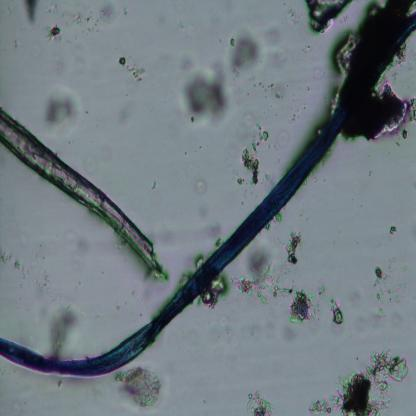Background material: (336, 3, 409, 98), (308, 355, 409, 414), (236, 276, 320, 324), (341, 94, 413, 139), (182, 64, 233, 125), (55, 0, 127, 35), (46, 304, 82, 359), (118, 370, 165, 406), (242, 129, 271, 185), (252, 70, 290, 108), (45, 92, 78, 132), (304, 2, 351, 30), (198, 203, 226, 249), (0, 248, 33, 283), (58, 230, 87, 269), (372, 264, 399, 304), (232, 34, 259, 72), (318, 288, 346, 324), (248, 246, 276, 278), (260, 33, 282, 71), (119, 56, 147, 83), (112, 96, 140, 122), (245, 389, 274, 414), (203, 280, 227, 310), (286, 230, 304, 268), (189, 176, 211, 198), (282, 2, 300, 23), (25, 2, 40, 25), (48, 24, 62, 41), (387, 225, 399, 240), (148, 178, 158, 190)
Cellulose filter fibre: (0, 107, 167, 277)
Cotton: (0, 13, 416, 376)
